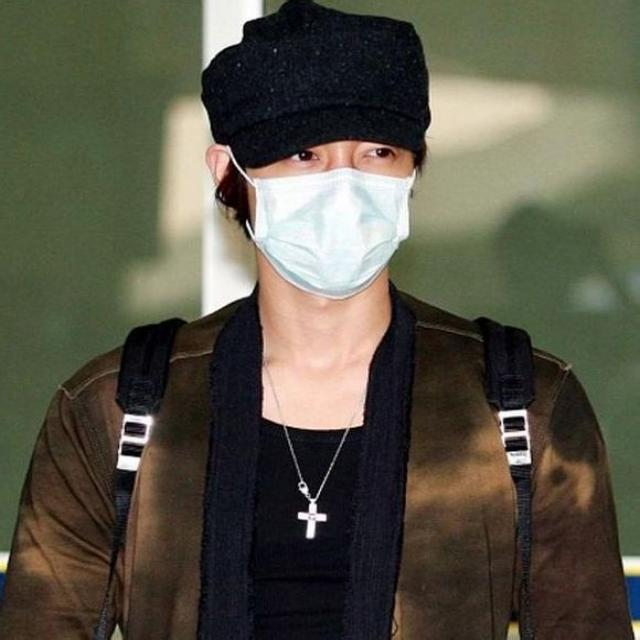mask: (246, 90, 414, 292)
